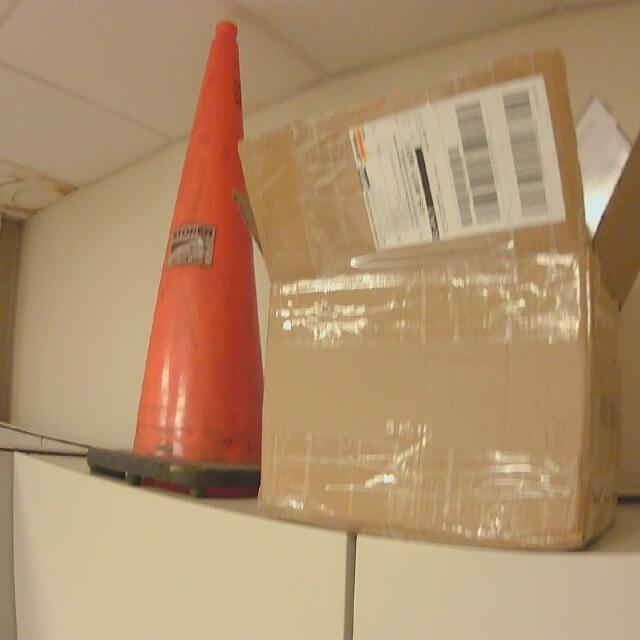traffic cone: (87, 22, 265, 504)
